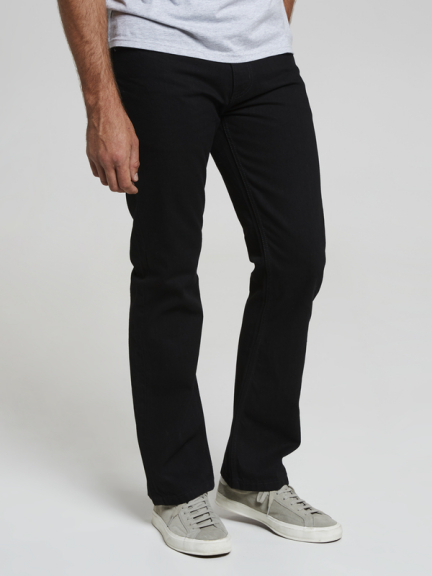jeans: (95, 42, 338, 492)
